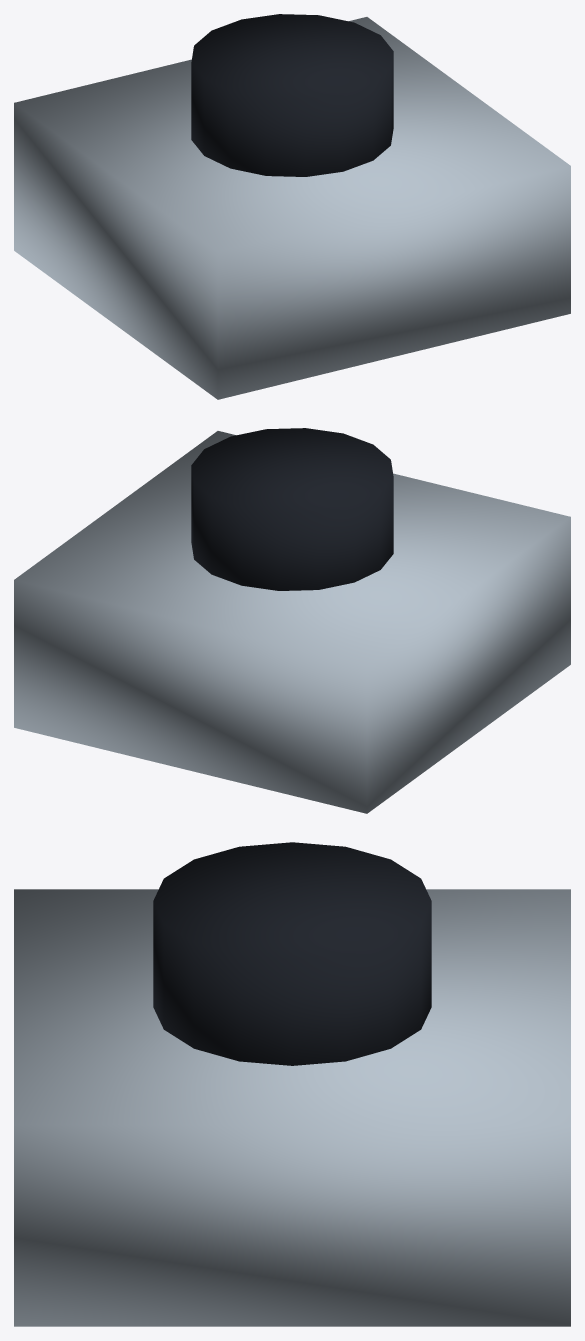
3 renders of one model, top to bottom at view 1: azimuth 30°, elevation 25°; view 2: azimuth 150°, elevation 25°; view 3: azimuth 270°, elevation 25°, orthographic. The views are drawn at different scales.
Visible parts, largest first — view 1: L104_SW2_silver, L104_SW2_black; view 2: L104_SW2_silver, L104_SW2_black; view 3: L104_SW2_silver, L104_SW2_black.
Part boxes in pixels (x1=…): L104_SW2_silver: x1=14, y1=17, x2=570, y2=399; L104_SW2_black: x1=191, y1=14, x2=393, y2=176; L104_SW2_silver: x1=14, y1=431, x2=570, y2=813; L104_SW2_black: x1=191, y1=428, x2=393, y2=590; L104_SW2_silver: x1=14, y1=889, x2=570, y2=1326; L104_SW2_black: x1=153, y1=842, x2=431, y2=1065.
Bounding box in the file's own units: 0.005 × 0.00305 × 0.005.
